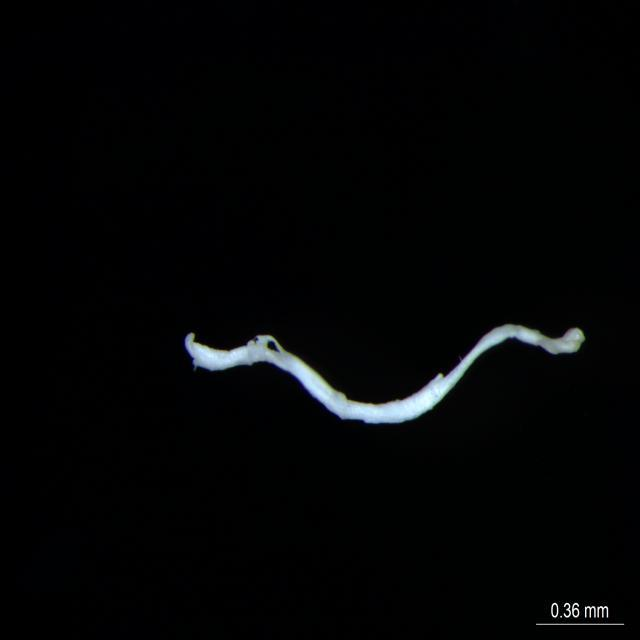fibers: (183, 324, 586, 423)
